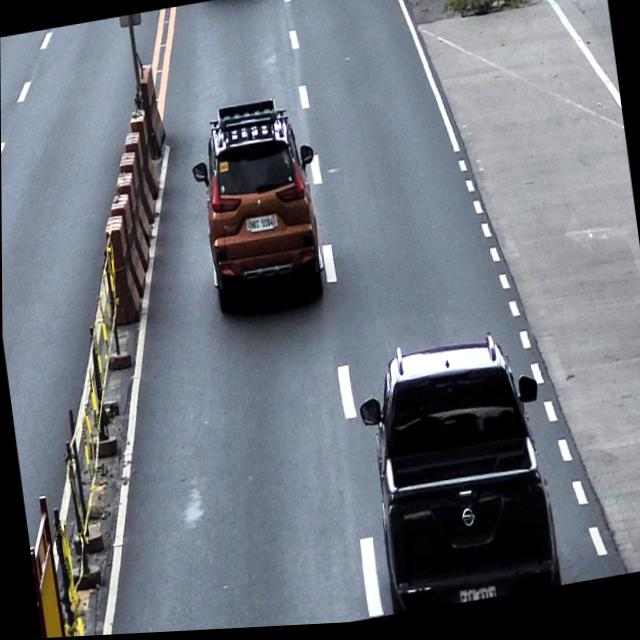Car: (351, 328, 563, 619), (184, 93, 331, 318)
License-Plate: (457, 588, 496, 608), (247, 216, 274, 237)
